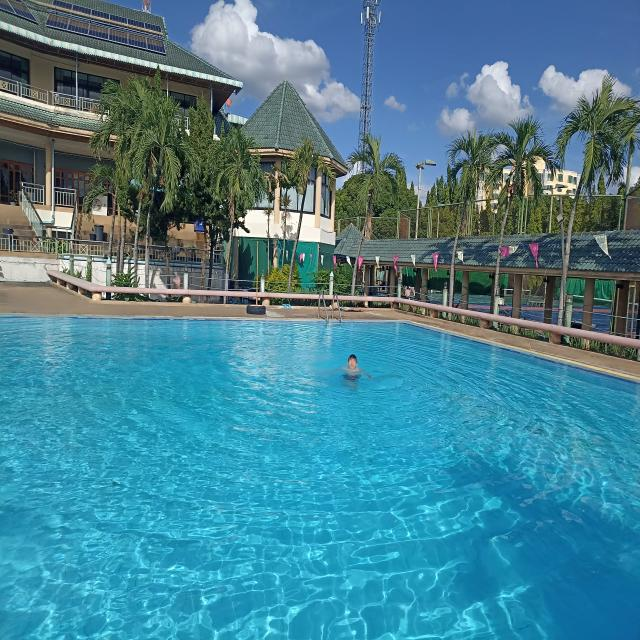Swimming: (324, 348, 379, 393)
